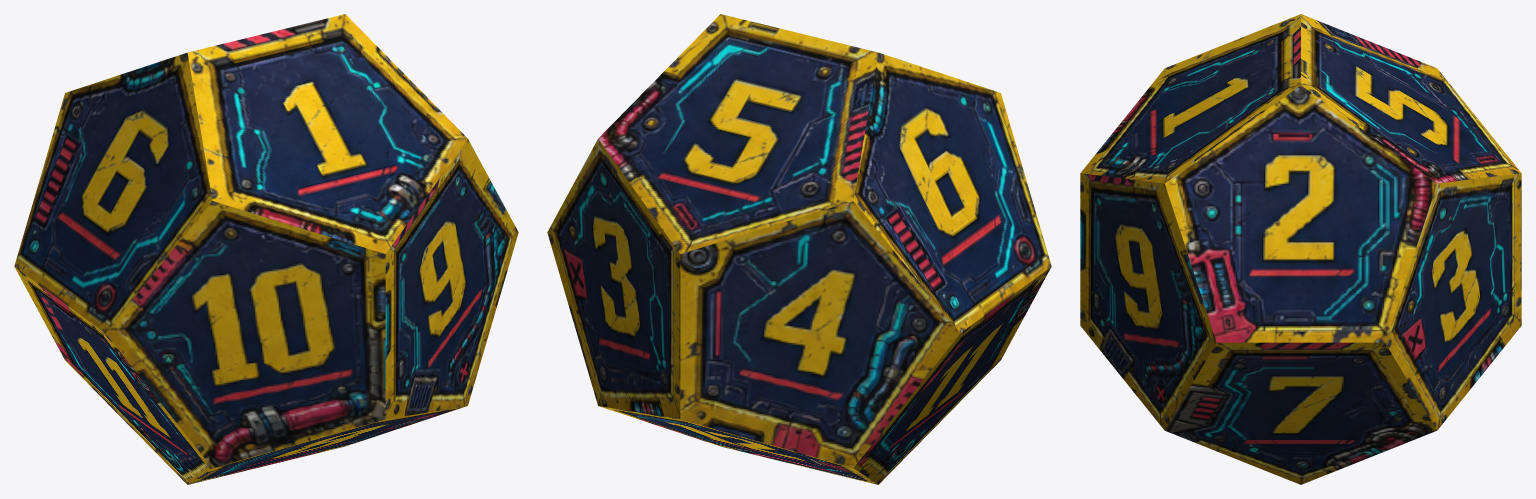
3 renders of one model, left to right at view 1: azimuth 30°, elevation 25°; view 2: azimuth 150°, elevation 25°; view 3: azimuth 270°, elevation 25°, orthographic. The views are drawn at different scales.
Visible parts, largest first — view 1: Themed_D12; view 2: Themed_D12; view 3: Themed_D12.
Boxes of the visible parts, bbox=[...] form: Themed_D12: bbox=[14, 14, 518, 484]; Themed_D12: bbox=[547, 14, 1051, 484]; Themed_D12: bbox=[1080, 14, 1521, 484].
Size of the model in its own units: 1.35 by 1.35 by 1.35.
Materials: 1 (1 with a texture image).
